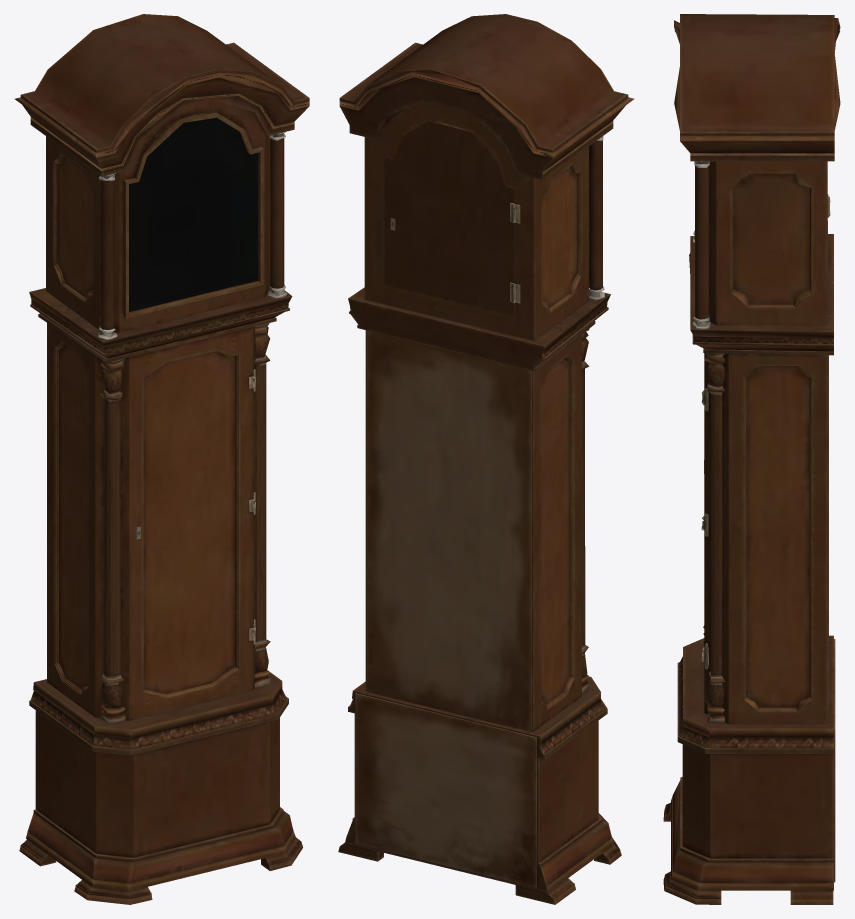
The model's file is vintage_grandfather_clock_01.glb.
The picture shows the model from 3 angles, left to right: view 1: azimuth 30°, elevation 25°; view 2: azimuth 150°, elevation 25°; view 3: azimuth 270°, elevation 25°; orthographic projection. The views are drawn at different scales.
Visible parts, largest first — view 1: vintage_grandfather_clock_01_body; view 2: vintage_grandfather_clock_01_body; view 3: vintage_grandfather_clock_01_body.
Boxes of the visible parts, x1,y1,x2,y2 form: vintage_grandfather_clock_01_body: (15,14,309,904); vintage_grandfather_clock_01_body: (338,14,634,904); vintage_grandfather_clock_01_body: (663,14,840,904).
Bounding box in the file's own units: 0.6212 × 2.19 × 0.4265.
Materials: 2 (2 with a texture image).
